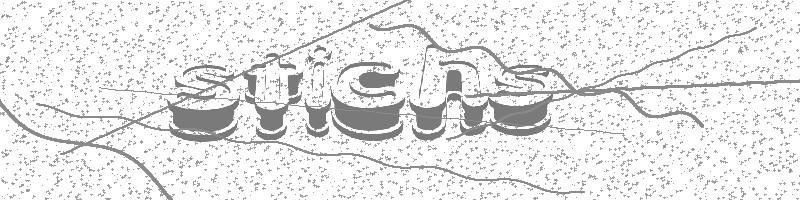c: (331, 56, 407, 147)
h: (411, 39, 488, 146)
i: (304, 39, 334, 139)
s: (164, 58, 243, 142), (485, 59, 559, 142)
t: (240, 49, 307, 141)
